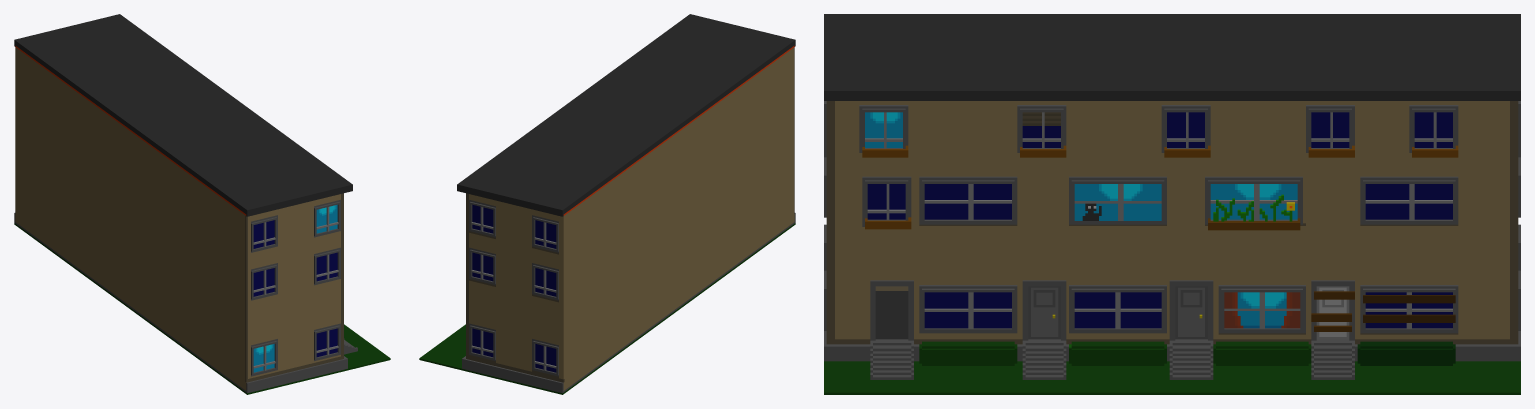
File: House2-1.obj
3 renders of one model, left to right at view 1: azimuth 30°, elevation 25°; view 2: azimuth 150°, elevation 25°; view 3: azimuth 270°, elevation 25°, orthographic. The views are drawn at different scales.
Size of the model in its own units: 9.1 by 11.2 by 25.6.
1 material, 1 textured.
